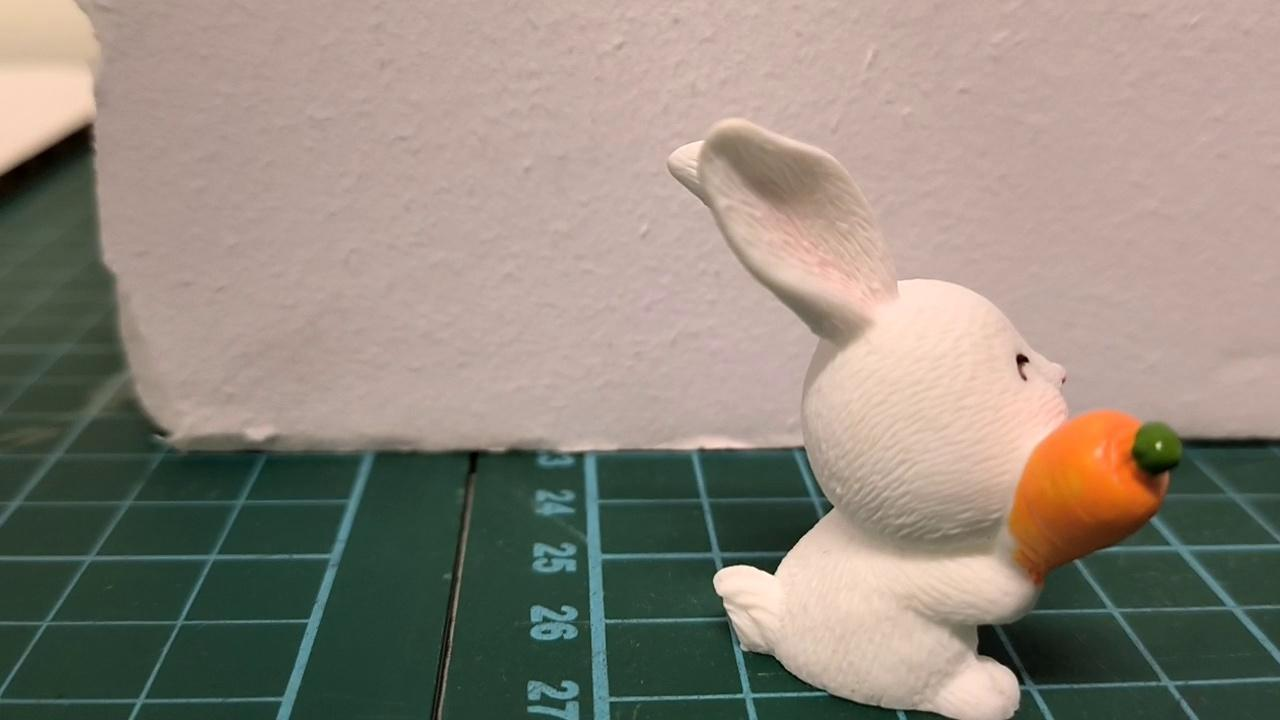pet: (666, 116, 1185, 720)
